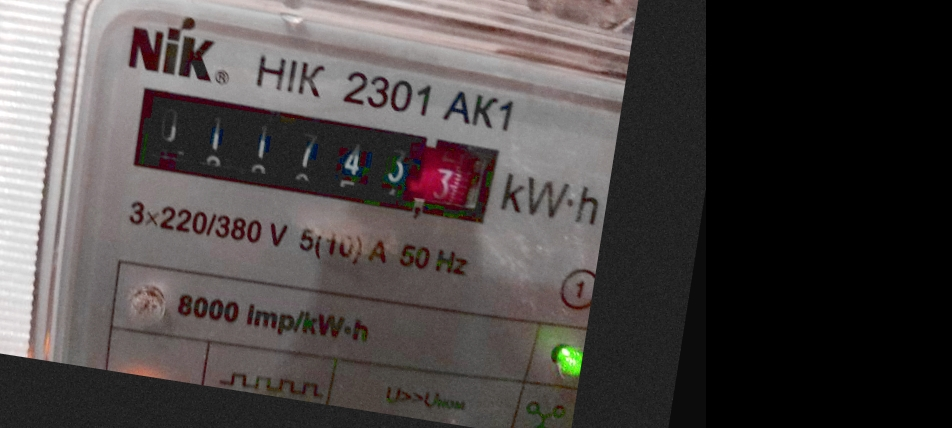0: (154, 104, 182, 146), (203, 111, 227, 154)
1: (250, 119, 272, 162)
3: (382, 143, 409, 188), (428, 163, 454, 204)
4: (338, 136, 364, 178)
7: (292, 126, 321, 173)
screen: (109, 71, 509, 237)
